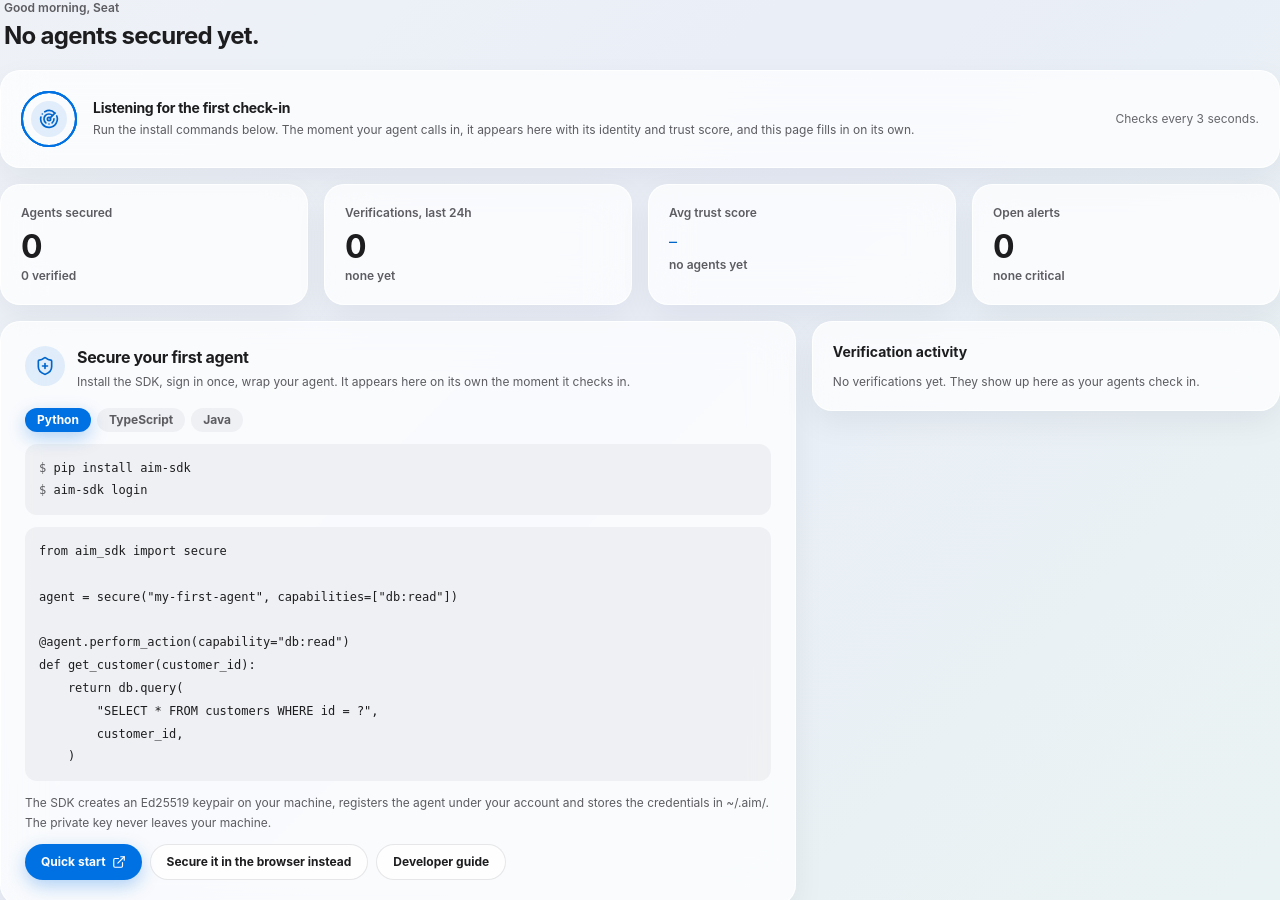
it: dashboard quickstart › switches the install line and example with the selected language
Expected: the heading "Secure your first agent" is shown, [77,347,249,367]
Expected: the element named "Commands" shows "pip install aim-sdk", [54,461,191,475]
Click the tab "TypeScript": (141, 420) [97,408,185,432]
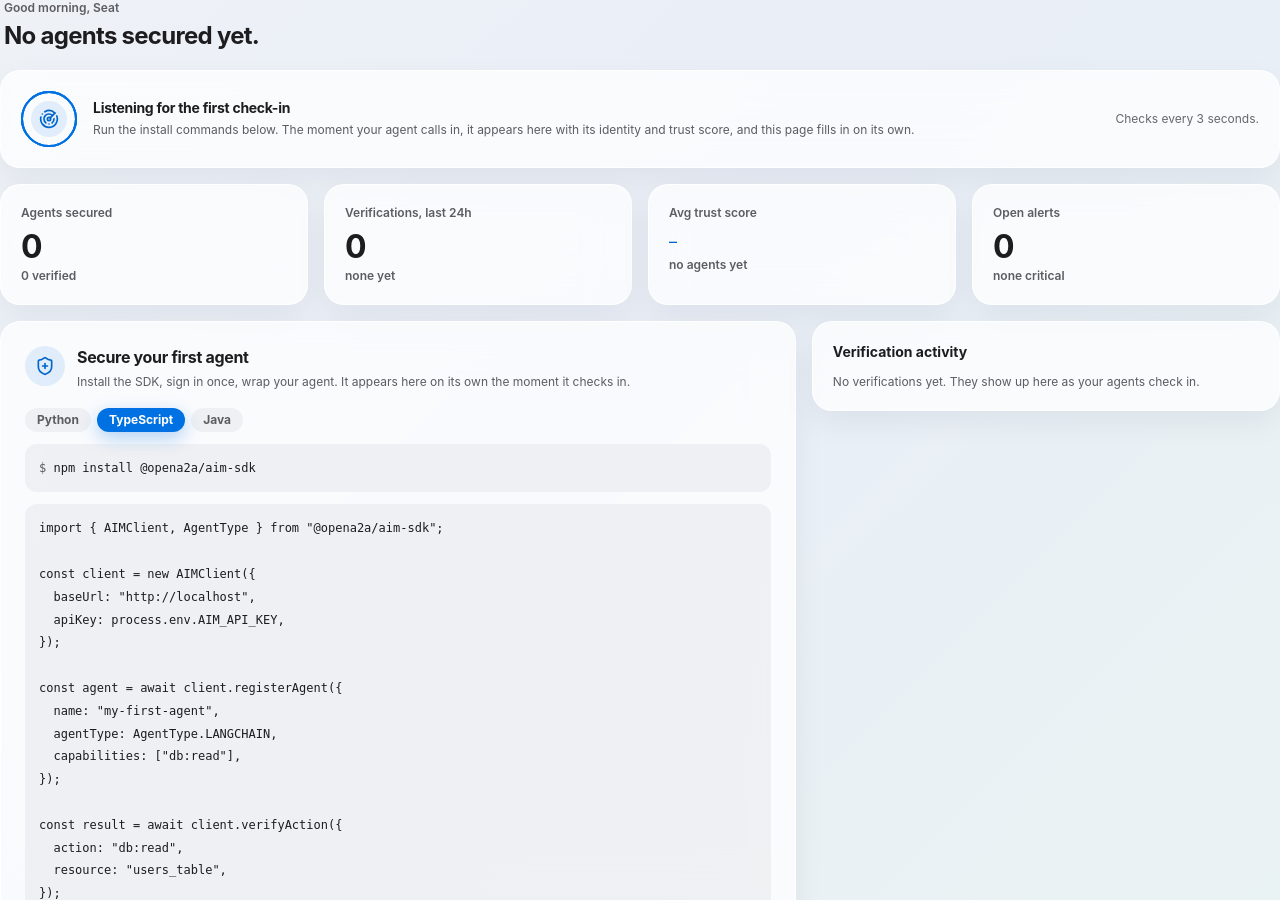
Result: the element named "Commands" shows "npm install @opena2a/aim-sdk" at [54,461,256,475]
Result: the panel shows "new AIMClient" at [39,522,444,899]
Click the tab "Java": (217, 420) [191,408,243,432]
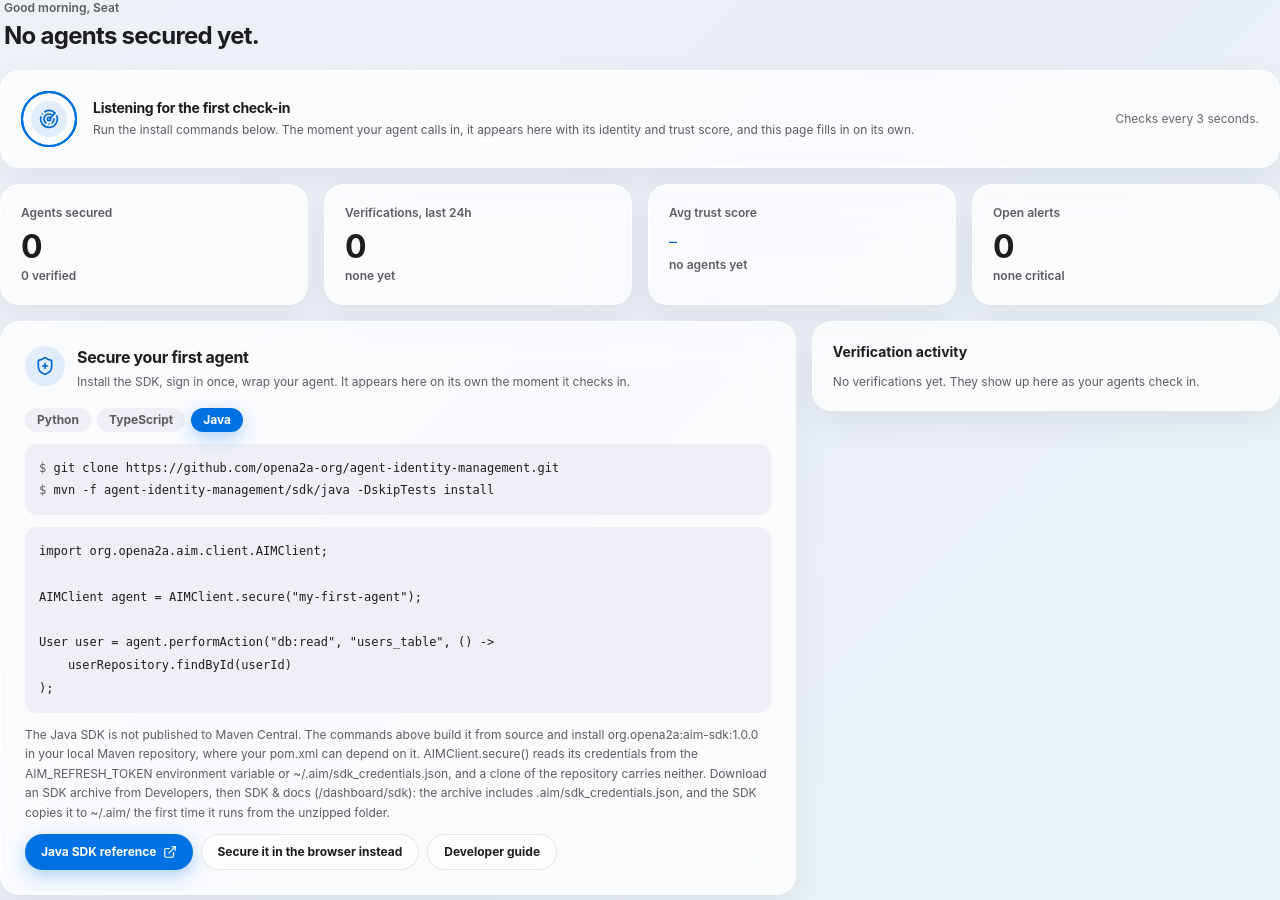
Result: the element named "Commands" shows "mvn -f agent-identity-management/sdk/java" at [54,484,494,498]
